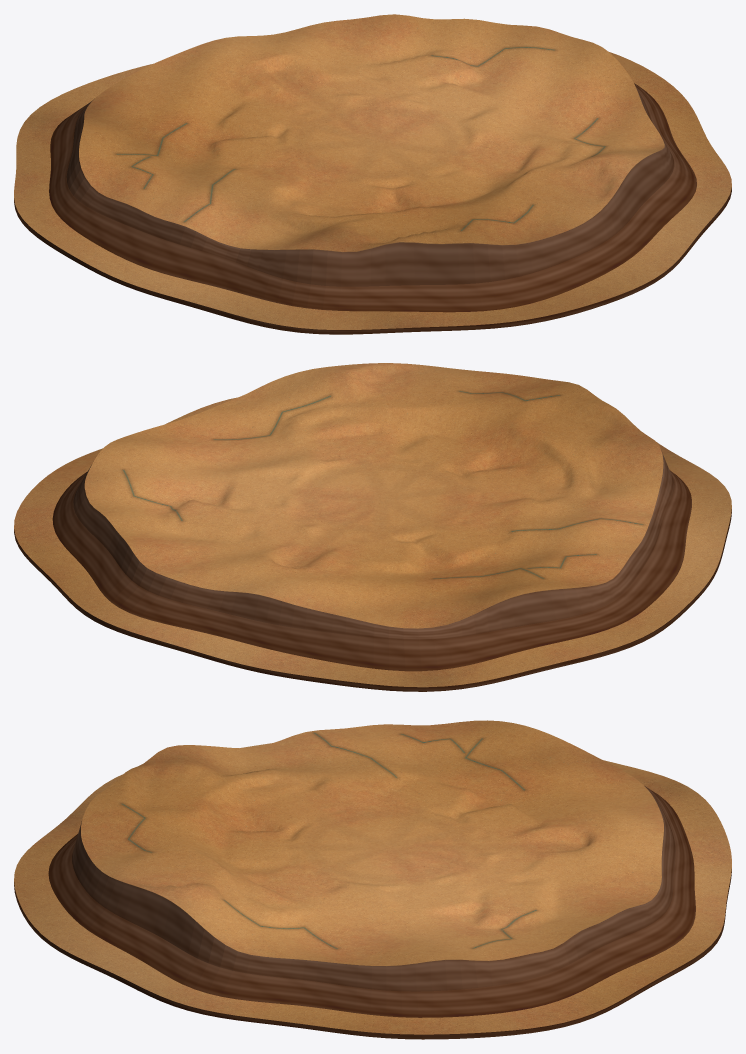
File: mesa-town-plate.glb
3 renders of one model, top to bottom at view 1: azimuth 30°, elevation 25°; view 2: azimuth 150°, elevation 25°; view 3: azimuth 270°, elevation 25°, orthographic.
Visible parts, largest first — view 1: MesaTownPlate; view 2: MesaTownPlate; view 3: MesaTownPlate.
Boxes of the visible parts, box(x1,y1,x2,y2) form: MesaTownPlate: box(14, 14, 731, 334); MesaTownPlate: box(14, 363, 731, 691); MesaTownPlate: box(14, 720, 731, 1039).
Size of the model in its own units: 56.5 by 5.57 by 56.
1 material, 1 textured.
